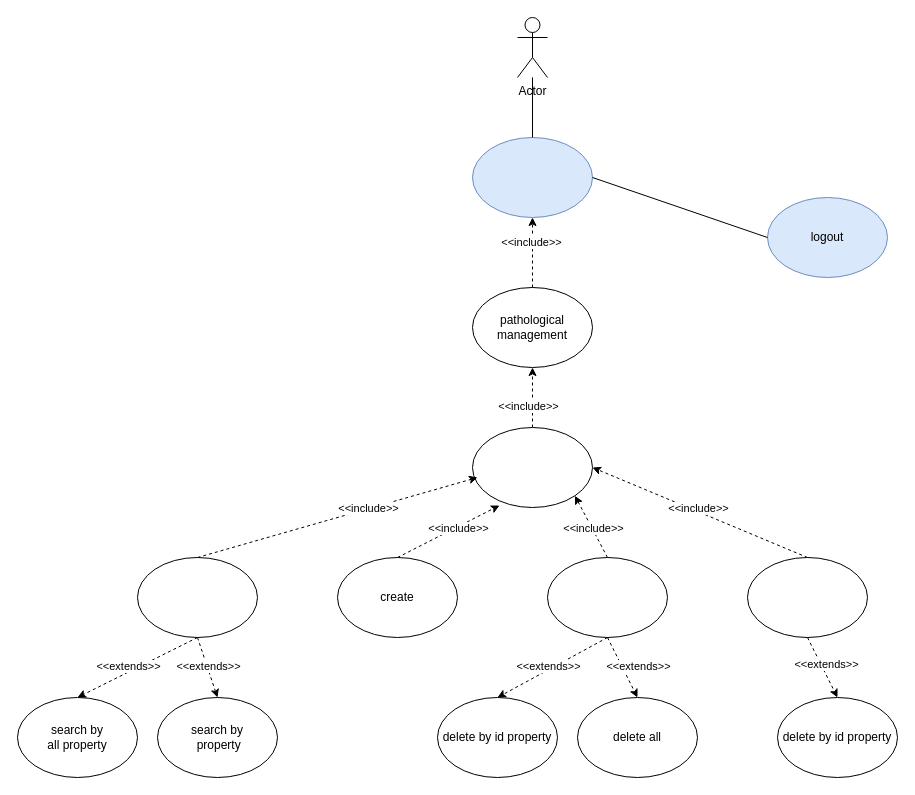
Some shapes in this 915 by 795 pixel diagram are drawn without their labels. Each missing label, with the box of its shape:
delete: (546, 556, 668, 638)
edit: (746, 556, 868, 638)
login: (472, 136, 592, 218)
search: (136, 556, 258, 638)
vacxin info: (472, 426, 592, 508)
